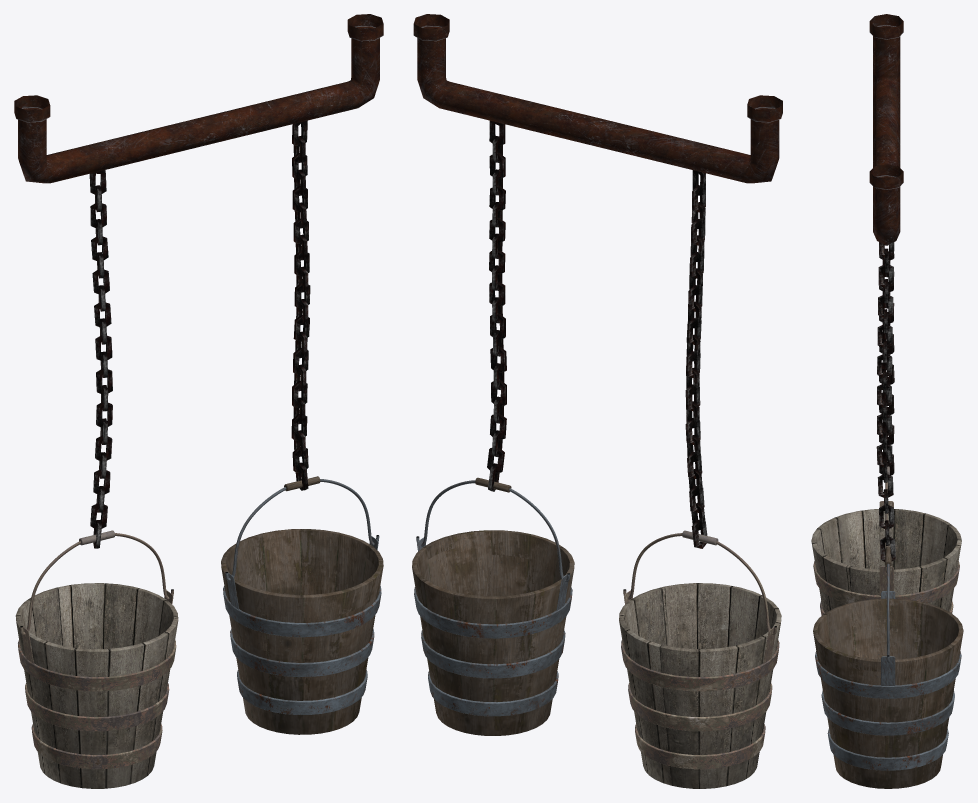
File: Chain and Buckets setup.fbx
3 renders of one model, left to right at view 1: azimuth 30°, elevation 25°; view 2: azimuth 150°, elevation 25°; view 3: azimuth 270°, elevation 25°, orthographic. The views are drawn at different scales.
Parts seen in each view (by area): view 1: Bucket Venigar, Bucket Water, Chains, Chains.001, Chains.002, Bucket Water Handle, Bucket Venigar Handle; view 2: Bucket Venigar, Bucket Water, Chains, Chains.002, Chains.001, Bucket Venigar Handle, Bucket Water Handle; view 3: Bucket Venigar, Bucket Water, Chains, Chains.001, Chains.002, Bucket Venigar Handle.
Part boxes in pixels (x1,y1,x2,y2): Bucket Venigar: (221,529,383,734); Bucket Water: (15,583,178,788); Chains: (14,14,383,183); Chains.001: (291,120,310,490); Chains.002: (89,170,112,548); Bucket Water Handle: (20,530,173,634); Bucket Venigar Handle: (225,476,379,580); Bucket Venigar: (412,530,574,735); Bucket Water: (619,583,781,788); Chains: (413,14,782,183); Chains.002: (685,170,707,548); Chains.001: (487,120,506,491); Bucket Venigar Handle: (416,477,570,581); Bucket Water Handle: (623,530,777,634); Bucket Venigar: (813,591,963,788); Bucket Water: (811,501,961,615); Chains: (869,14,903,245); Chains.001: (876,242,895,561); Chains.002: (879,244,894,475); Bucket Venigar Handle: (885,546,891,662).
Bounding box in the file's own units: 140 × 248 × 54.72.
